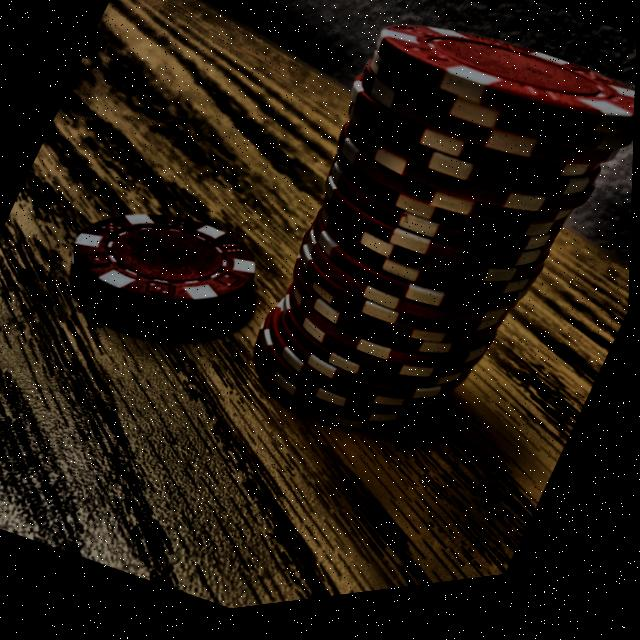Chip: (162, 0, 640, 551), (27, 139, 307, 410)
